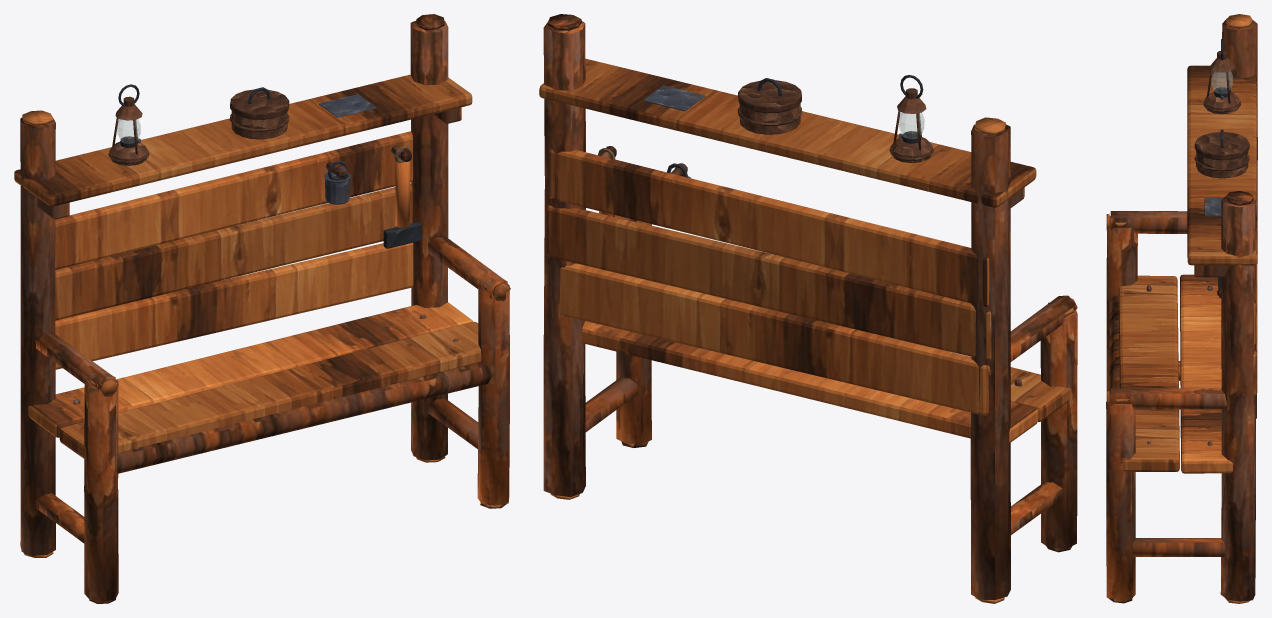
File: lw_rest_nook_bench.glb
3 renders of one model, left to right at view 1: azimuth 30°, elevation 25°; view 2: azimuth 150°, elevation 25°; view 3: azimuth 270°, elevation 25°, orthographic. The views are drawn at different scales.
Visible parts, largest first — view 1: model; view 2: model; view 3: model.
Boxes of the visible parts, <box> form: model: <box>14,14,510,603</box>; model: <box>539,14,1077,603</box>; model: <box>1106,14,1257,603</box>.
Bounding box in the file's own units: 1.3 × 1.33 × 0.4358.
18 materials, 16 textured.
